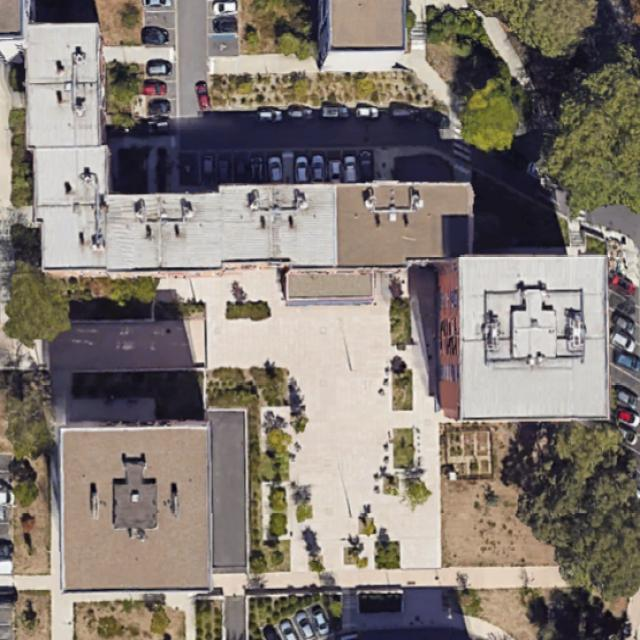immeuble: (438, 256, 608, 422), (60, 423, 219, 589), (102, 183, 338, 271), (335, 183, 474, 267), (26, 24, 105, 145), (36, 148, 106, 272), (318, 0, 406, 69)
